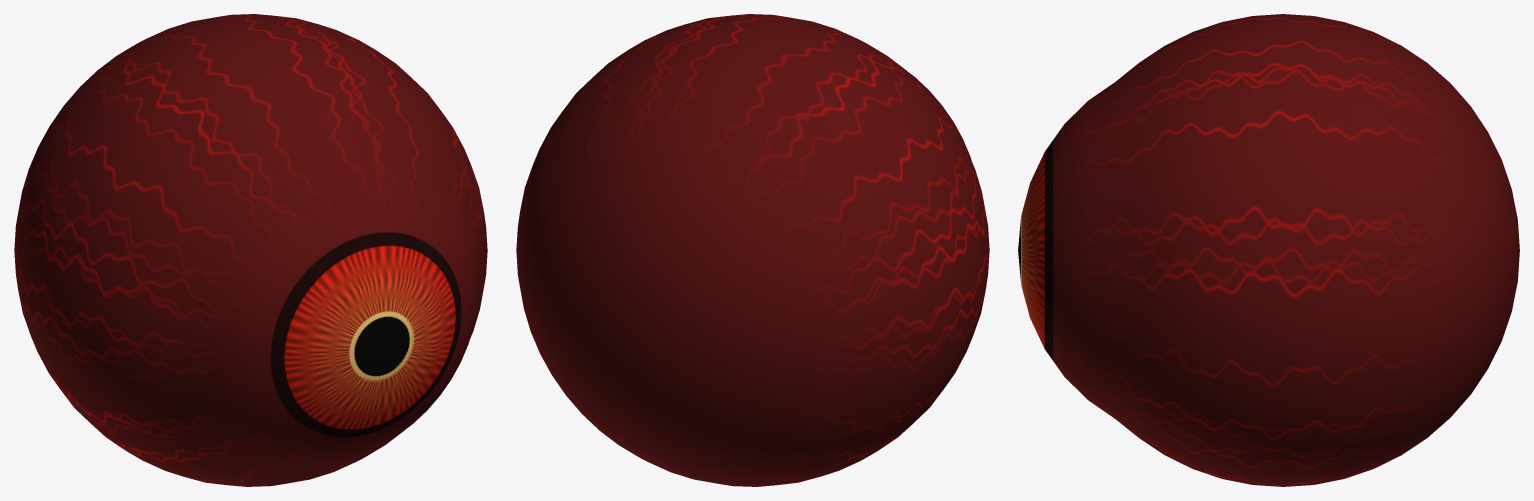
Rendered from StatueEye.fbx.
3 renders of one model, left to right at view 1: azimuth 30°, elevation 25°; view 2: azimuth 150°, elevation 25°; view 3: azimuth 270°, elevation 25°, orthographic.
Visible parts, largest first — view 1: StatueEye; view 2: StatueEye; view 3: StatueEye.
Part boxes in pixels (x1=…): StatueEye: x1=14, y1=14, x2=487, y2=486; StatueEye: x1=516, y1=14, x2=989, y2=486; StatueEye: x1=1018, y1=14, x2=1519, y2=486.
Bounding box in the file's own units: 0.026 × 0.026 × 0.0276.
